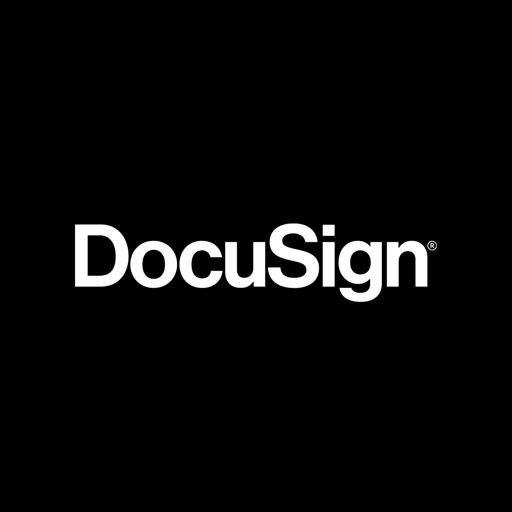DocuSign: (0, 158, 512, 353)
